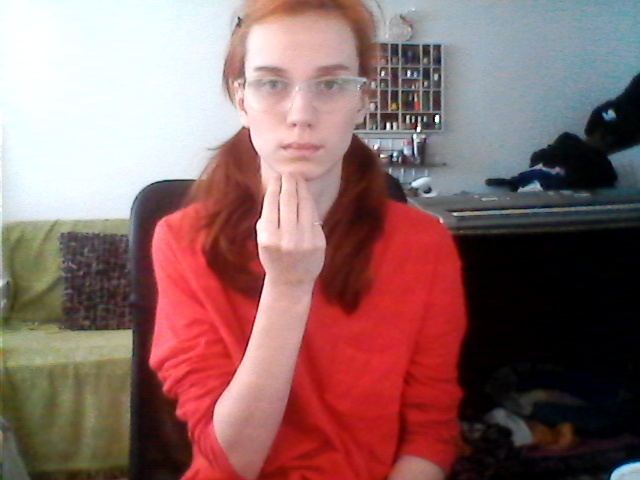c: (255, 141, 336, 277)
